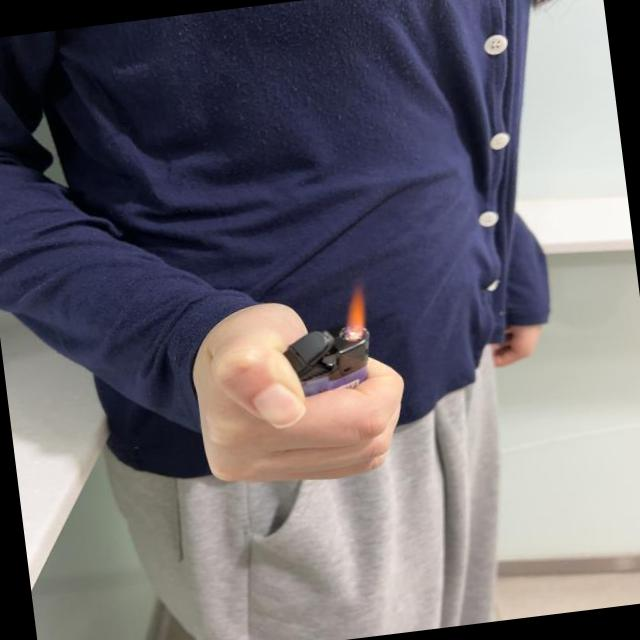Fire: (338, 280, 368, 336)
